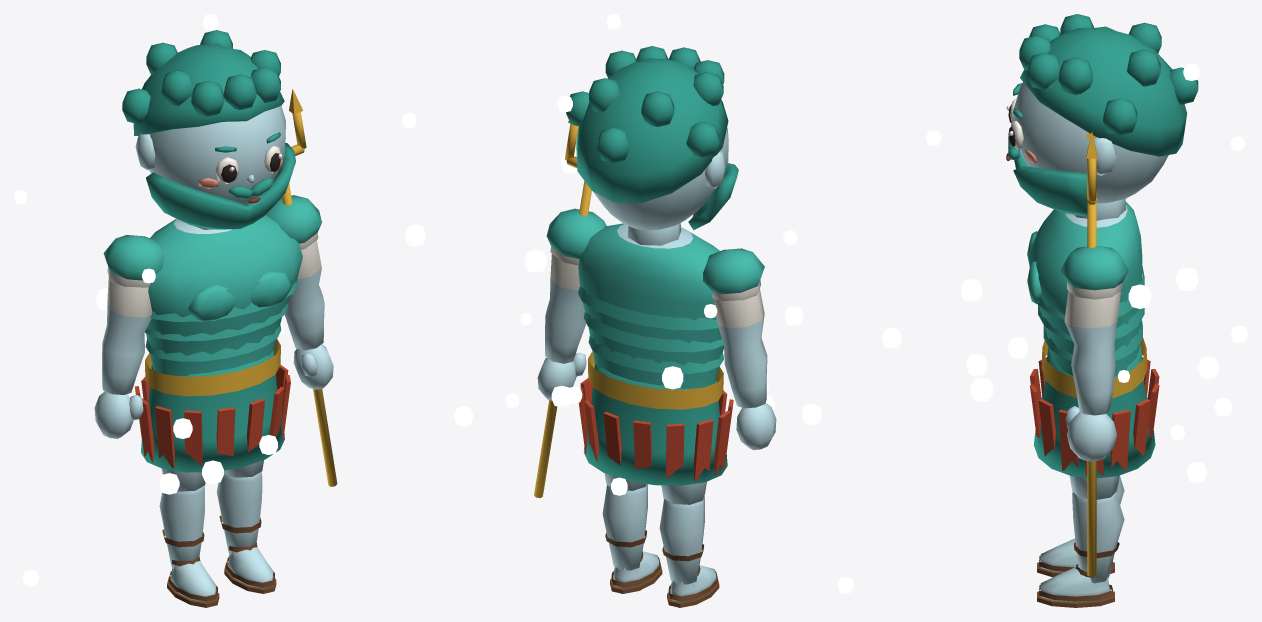
Rendered from triton.glb.
3 views of the same model, side by side, from view 1: azimuth 30°, elevation 25°; view 2: azimuth 150°, elevation 25°; view 3: azimuth 270°, elevation 25° (orthographic). The views are drawn at different scales.
Visible parts, largest first — view 1: rumpf, haare, huefte, armL, kopf, armR, bart, knieR, knieL, itemR, vfx_blasen_1, vfx_blasen_2 (+2 smaller); view 2: rumpf, haare, huefte, armL, armR, kopf, knieL, knieR, itemR, vfx_blasen_0, vfx_blasen_1, vfx_blasen_2 (+2 smaller); view 3: haare, rumpf, armR, huefte, kopf, knieR, bart, itemR, vfx_blasen_1, vfx_blasen_0, vfx_blasen_2, knieL (+1 smaller).
Part boxes in pixels (x1=…): rumpf: x1=145, y1=215, x2=302, y2=396; haare: x1=122, y1=30, x2=284, y2=135; huefte: x1=135, y1=350, x2=290, y2=472; armL: x1=94, y1=235, x2=164, y2=438; kopf: x1=135, y1=105, x2=285, y2=229; armR: x1=266, y1=195, x2=333, y2=389; bart: x1=146, y1=143, x2=295, y2=229; knieR: x1=216, y1=472, x2=276, y2=593; knieL: x1=159, y1=486, x2=219, y2=607; itemR: x1=282, y1=89, x2=337, y2=486; vfx_blasen_1: x1=14, y1=190, x2=320, y2=494; vfx_blasen_2: x1=133, y1=14, x2=425, y2=385; rumpf: x1=578, y1=223, x2=723, y2=409; haare: x1=566, y1=46, x2=728, y2=203; huefte: x1=578, y1=364, x2=733, y2=485; armL: x1=703, y1=248, x2=776, y2=450; armR: x1=537, y1=208, x2=606, y2=400; kopf: x1=593, y1=127, x2=728, y2=245; knieL: x1=659, y1=496, x2=719, y2=607; knieR: x1=602, y1=484, x2=662, y2=593; itemR: x1=534, y1=120, x2=591, y2=497; vfx_blasen_0: x1=454, y1=366, x2=853, y2=593; vfx_blasen_1: x1=520, y1=249, x2=821, y2=425; vfx_blasen_2: x1=557, y1=14, x2=797, y2=495; haare: x1=1019, y1=14, x2=1198, y2=156; rumpf: x1=1027, y1=201, x2=1147, y2=397; armR: x1=1060, y1=245, x2=1128, y2=461; huefte: x1=1030, y1=344, x2=1159, y2=478; kopf: x1=1013, y1=82, x2=1168, y2=220; knieR: x1=1037, y1=492, x2=1124, y2=607; bart: x1=1008, y1=136, x2=1087, y2=216; itemR: x1=1086, y1=132, x2=1097, y2=576; vfx_blasen_1: x1=882, y1=136, x2=1244, y2=382; vfx_blasen_0: x1=970, y1=267, x2=1219, y2=482; vfx_blasen_2: x1=926, y1=63, x2=1247, y2=416; knieL: x1=1037, y1=475, x2=1124, y2=577.
Size of the model in its own units: 1.58 by 2.3 by 1.38.
